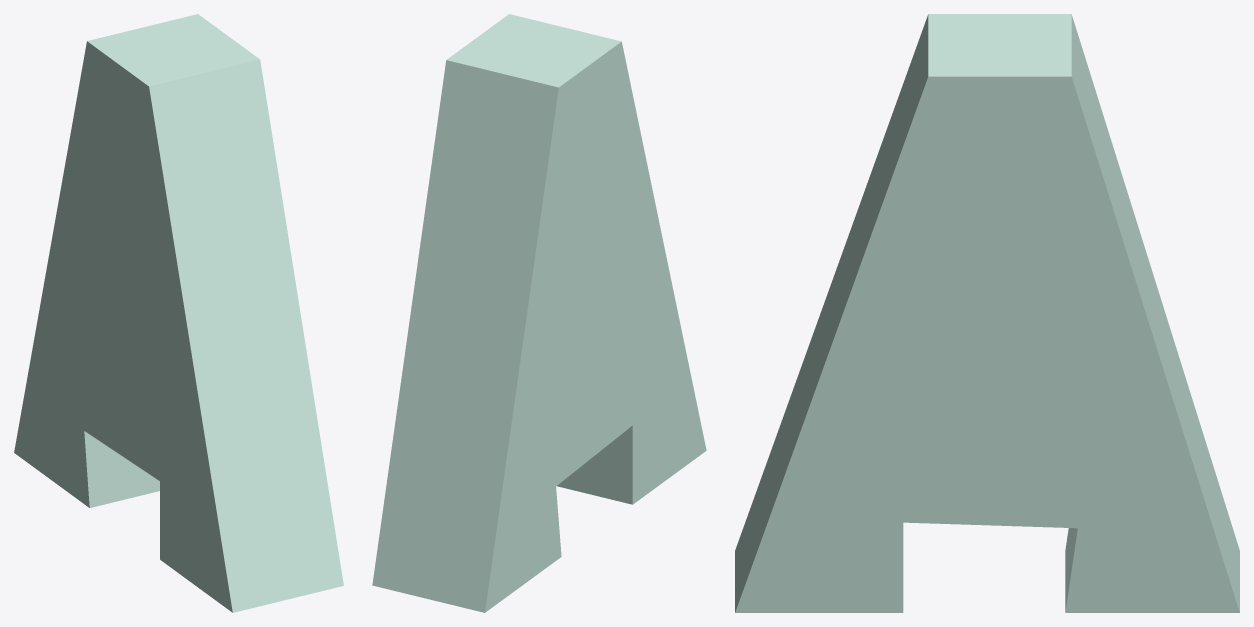
The picture shows the model from 3 angles, left to right: view 1: azimuth 30°, elevation 25°; view 2: azimuth 150°, elevation 25°; view 3: azimuth 270°, elevation 25°; orthographic projection. The views are drawn at different scales.
Parts seen in each view (by area): view 1: Renderer Node; view 2: Renderer Node; view 3: Renderer Node.
Boxes of the visible parts, bbox=[...] form: Renderer Node: bbox=[14, 14, 343, 612]; Renderer Node: bbox=[372, 14, 706, 612]; Renderer Node: bbox=[735, 14, 1239, 612].
Bounding box in the file's own units: 0.1875 × 0.75 × 0.6395.
